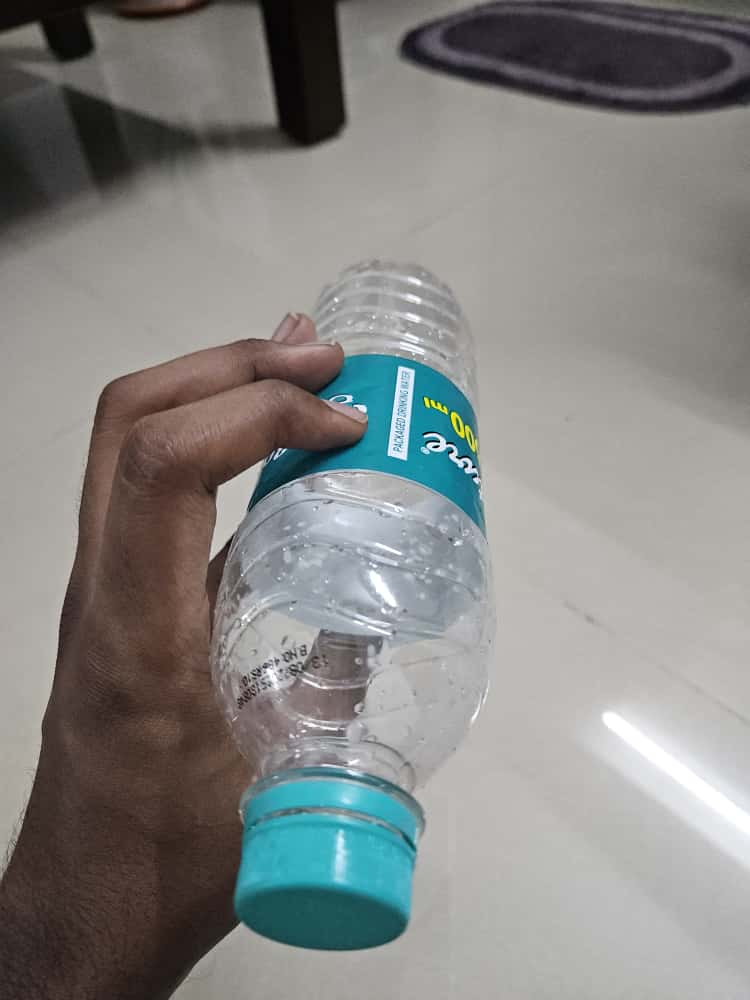dry: (190, 258, 528, 957)
